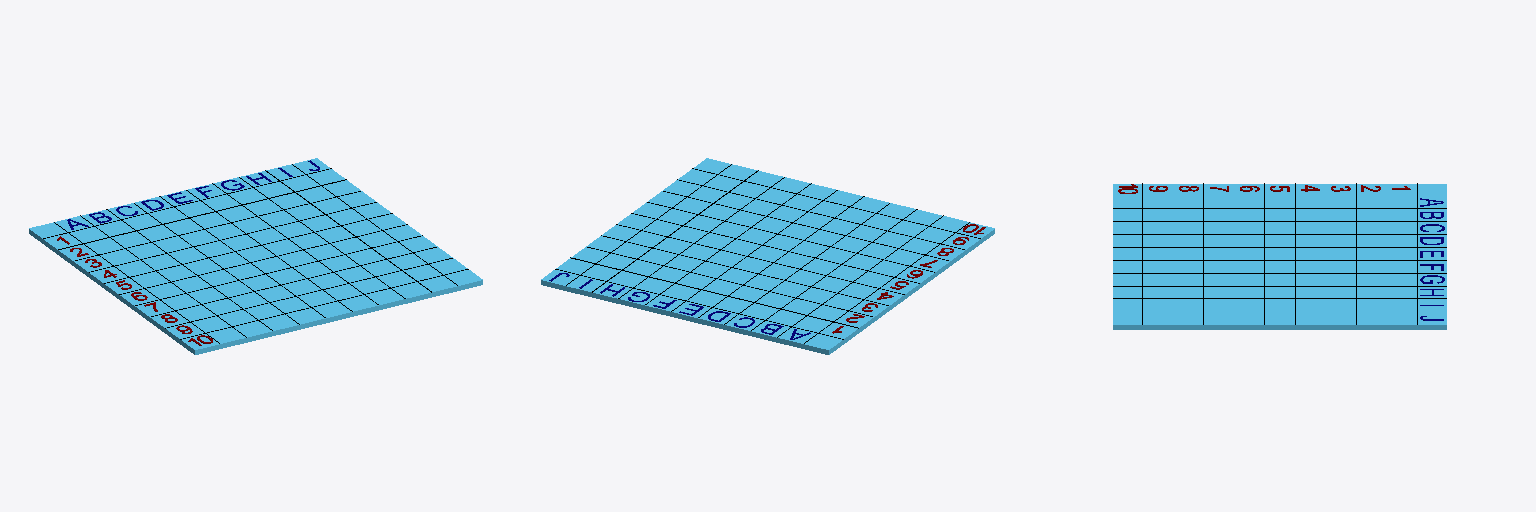
File: Board_Player.obj
3 renders of one model, left to right at view 1: azimuth 30°, elevation 25°; view 2: azimuth 150°, elevation 25°; view 3: azimuth 270°, elevation 25°, orthographic.
Parts seen in each view (by area): view 1: BASE; view 2: BASE; view 3: BASE.
Boxes of the visible parts, <box> form: BASE: <box>29,158,482,354</box>; BASE: <box>541,158,994,354</box>; BASE: <box>1113,183,1446,329</box>.
Bounding box in the file's own units: 60 × 1.28 × 60.